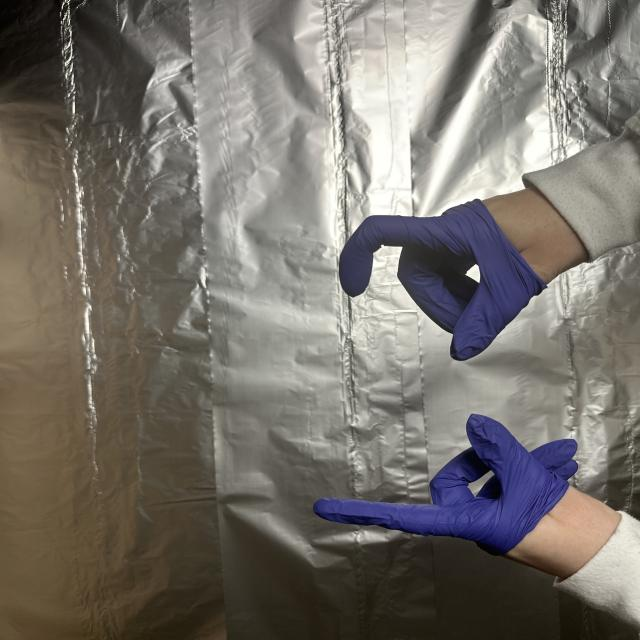glove_partial: (309, 410, 620, 578), (332, 182, 588, 365)
